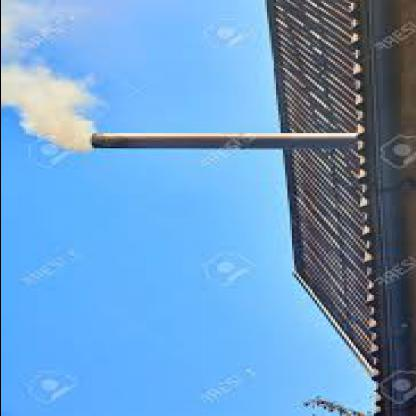Smoke: (8, 71, 91, 156)
